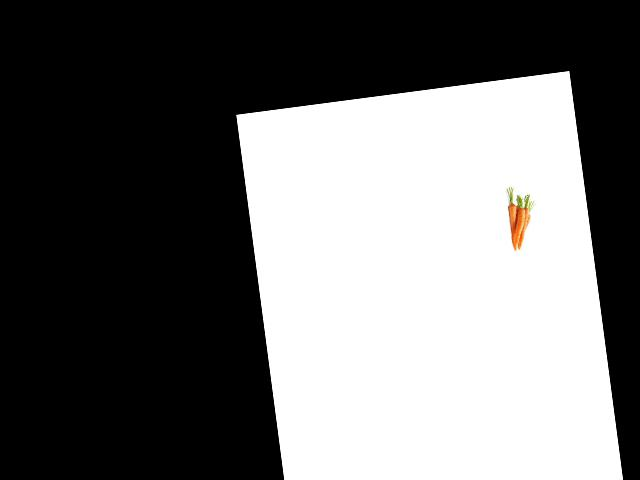carrot: (505, 204, 521, 251)
